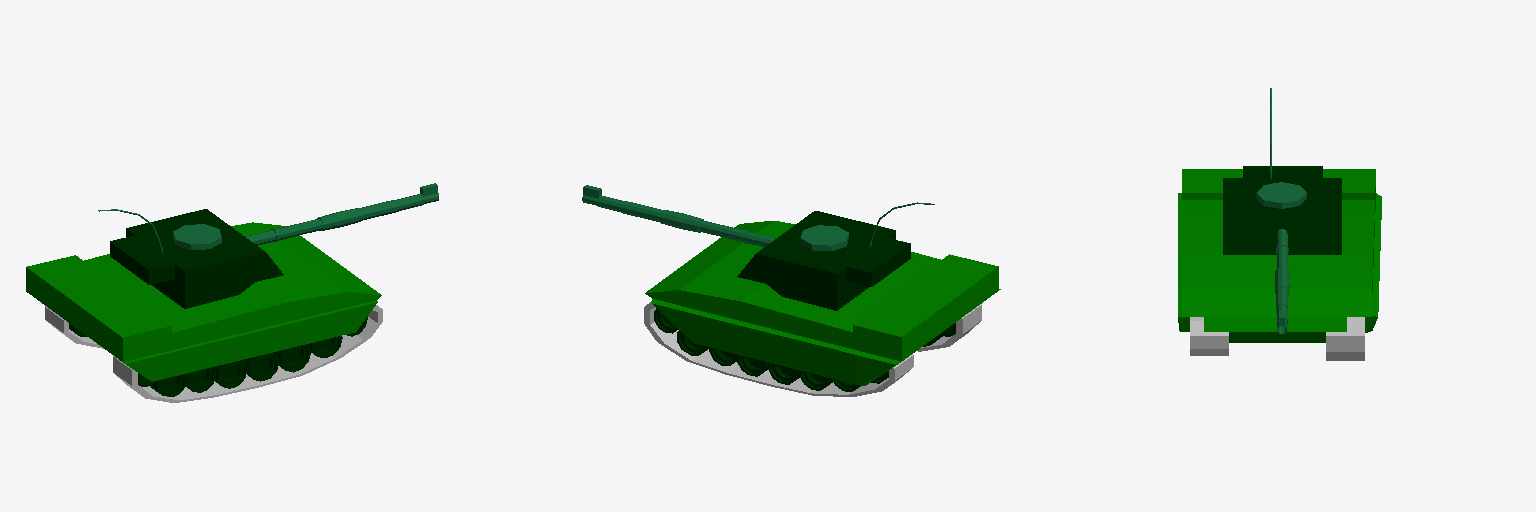
The model's file is tank.obj.
3 views of the same model, side by side, from view 1: azimuth 30°, elevation 25°; view 2: azimuth 150°, elevation 25°; view 3: azimuth 270°, elevation 25° (orthographic).
Visible parts, largest first — view 1: polySurface1; view 2: polySurface1; view 3: polySurface1.
Boxes of the visible parts, x1=… form: polySurface1: x1=26, y1=183, x2=438, y2=402; polySurface1: x1=582, y1=185, x2=1000, y2=396; polySurface1: x1=1178, y1=88, x2=1381, y2=360.
Size of the model in its own units: 44.19 by 20.52 by 21.5.